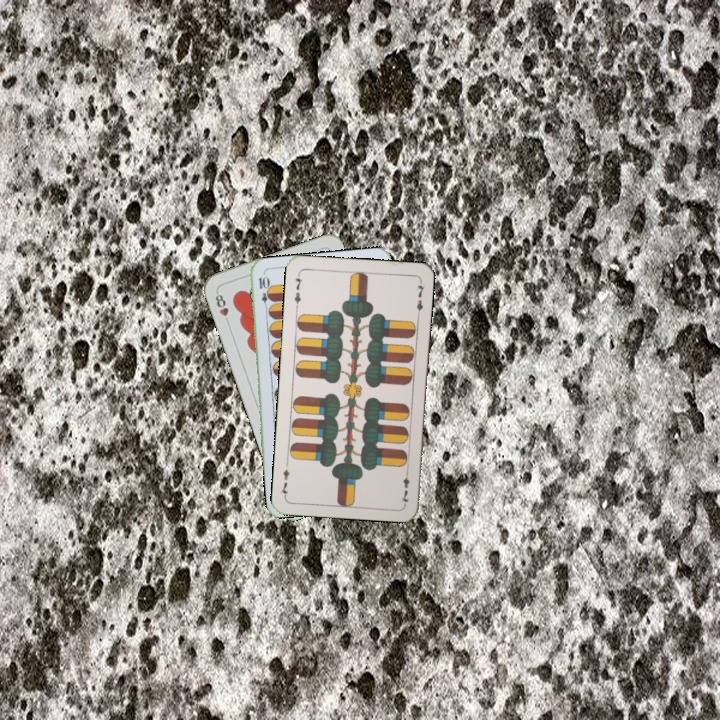E10: (255, 272, 271, 313)
E7: (290, 270, 305, 310), (398, 465, 412, 506)
H8: (211, 288, 232, 327)
